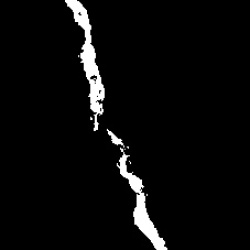crack: (108, 129, 164, 246), (66, 2, 105, 133)
